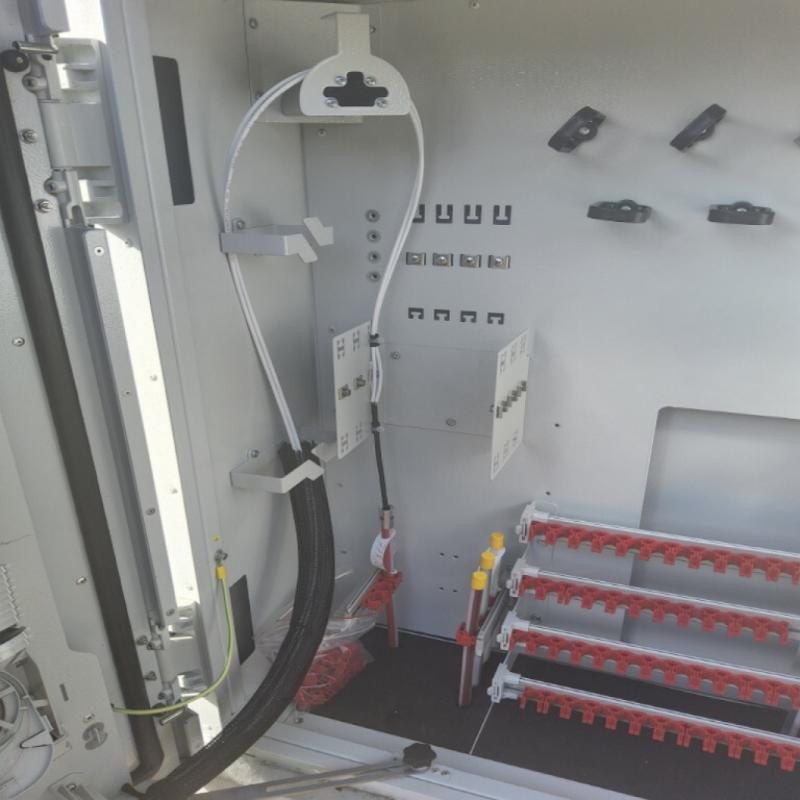NT-Gehause: (4, 2, 800, 800)
